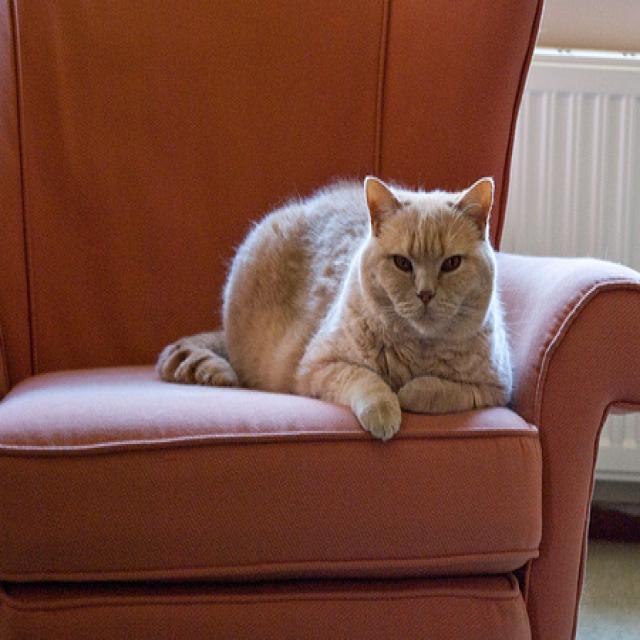British Shorthair: (152, 169, 516, 444)
